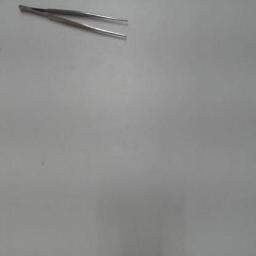Gillies Toothed Dissector: (14, 2, 136, 50)
